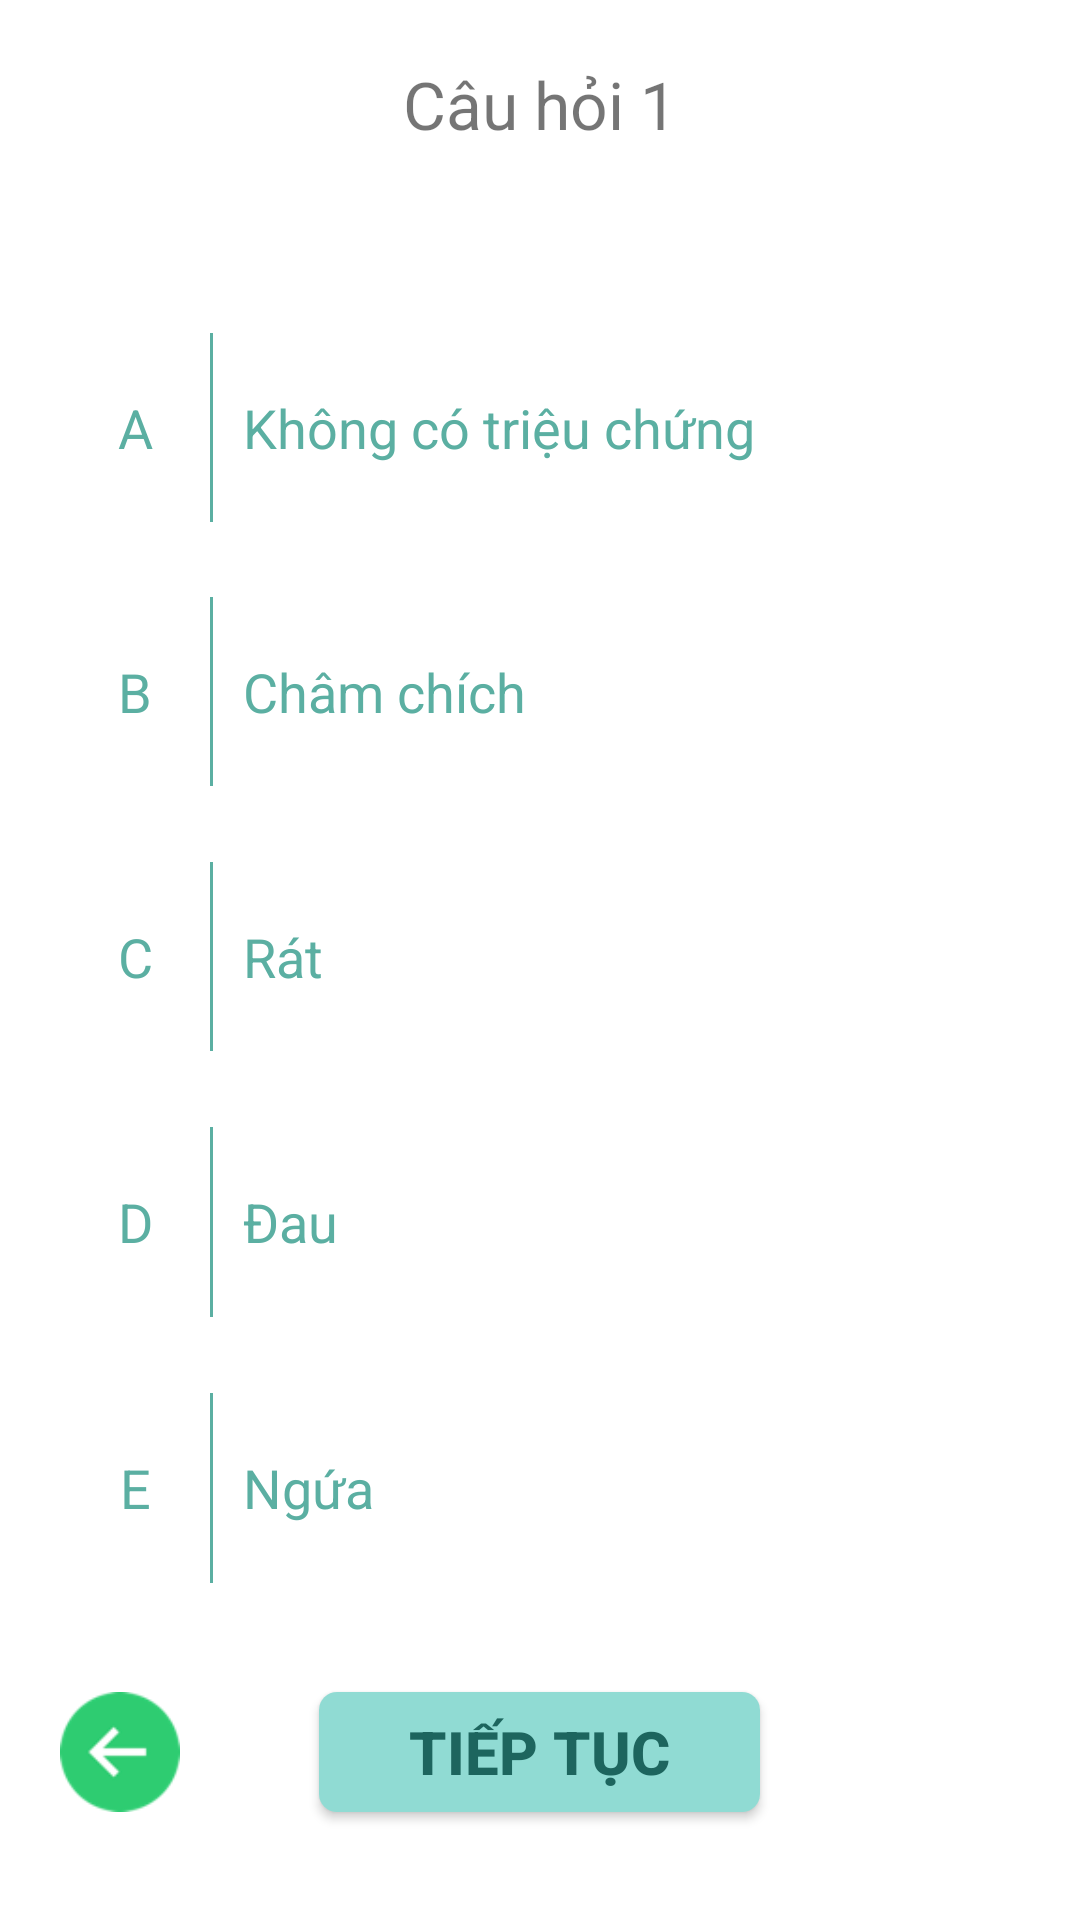

Where icons sit on this 1080px x 1920px app screen, as bbox=[x1, y1, x2, y2]:
back: bbox=[60, 1692, 180, 1812]
